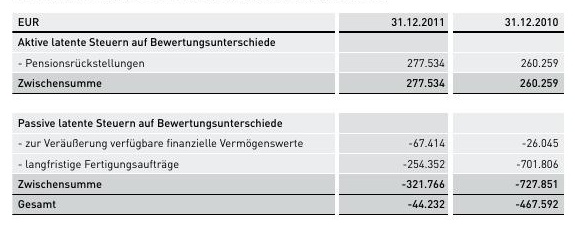table: (0, 0, 575, 225)
